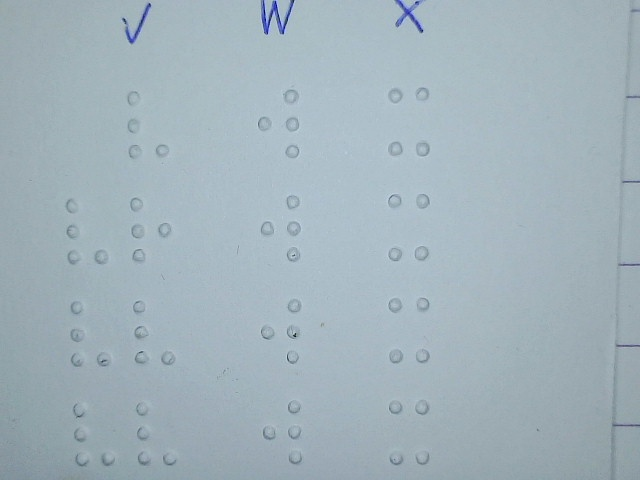V: (125, 88, 171, 159), (64, 196, 110, 267), (131, 296, 177, 367), (71, 397, 117, 468), (134, 398, 180, 469)
W: (256, 87, 302, 158), (258, 191, 304, 262), (260, 396, 306, 467), (258, 295, 304, 366)
X: (386, 85, 432, 156), (386, 190, 432, 261), (386, 294, 432, 365), (386, 396, 432, 467)
